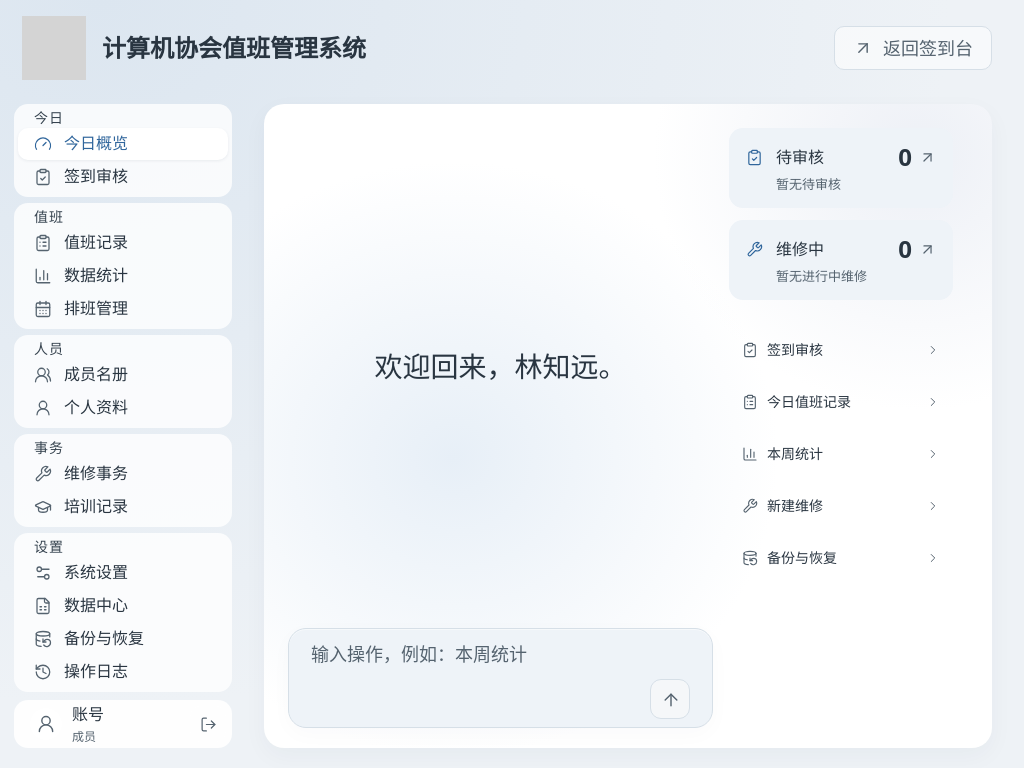
Test: TodayPage request states › shows the parser message for an invalid command
In the dropdown named "查找后台功能或输入命令": (500, 654) [311, 637, 690, 671], type "/ 不存在"
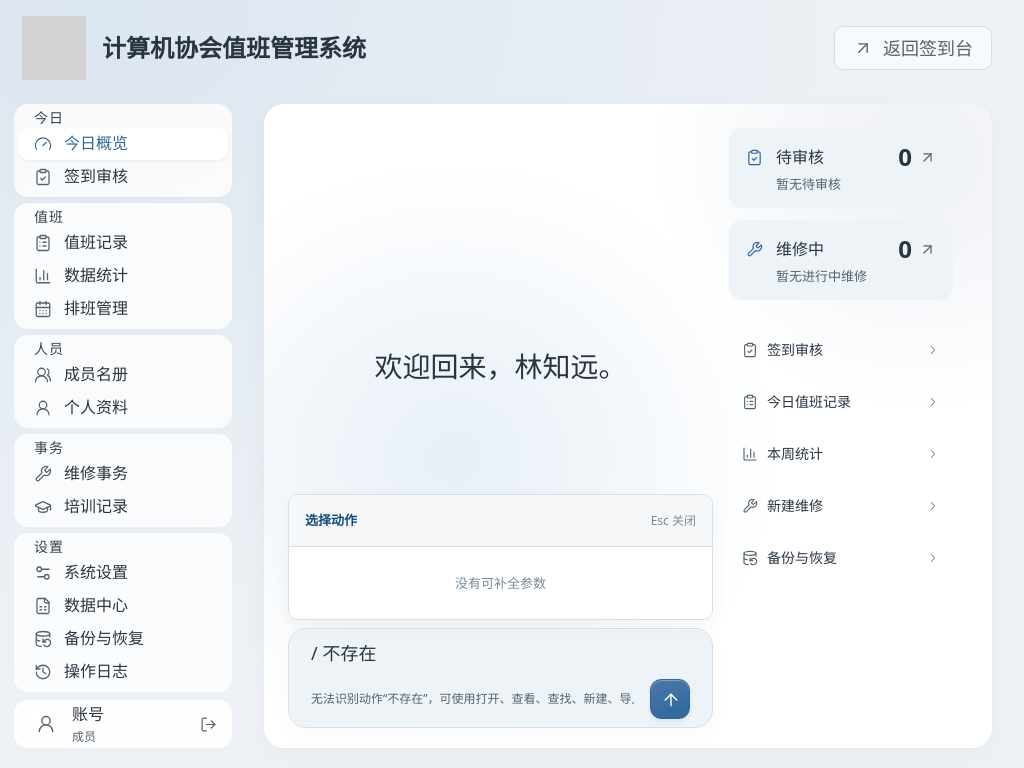
Now the message with class "command-composer-mode" shows "无法识别动作", box [311, 690, 713, 707]
